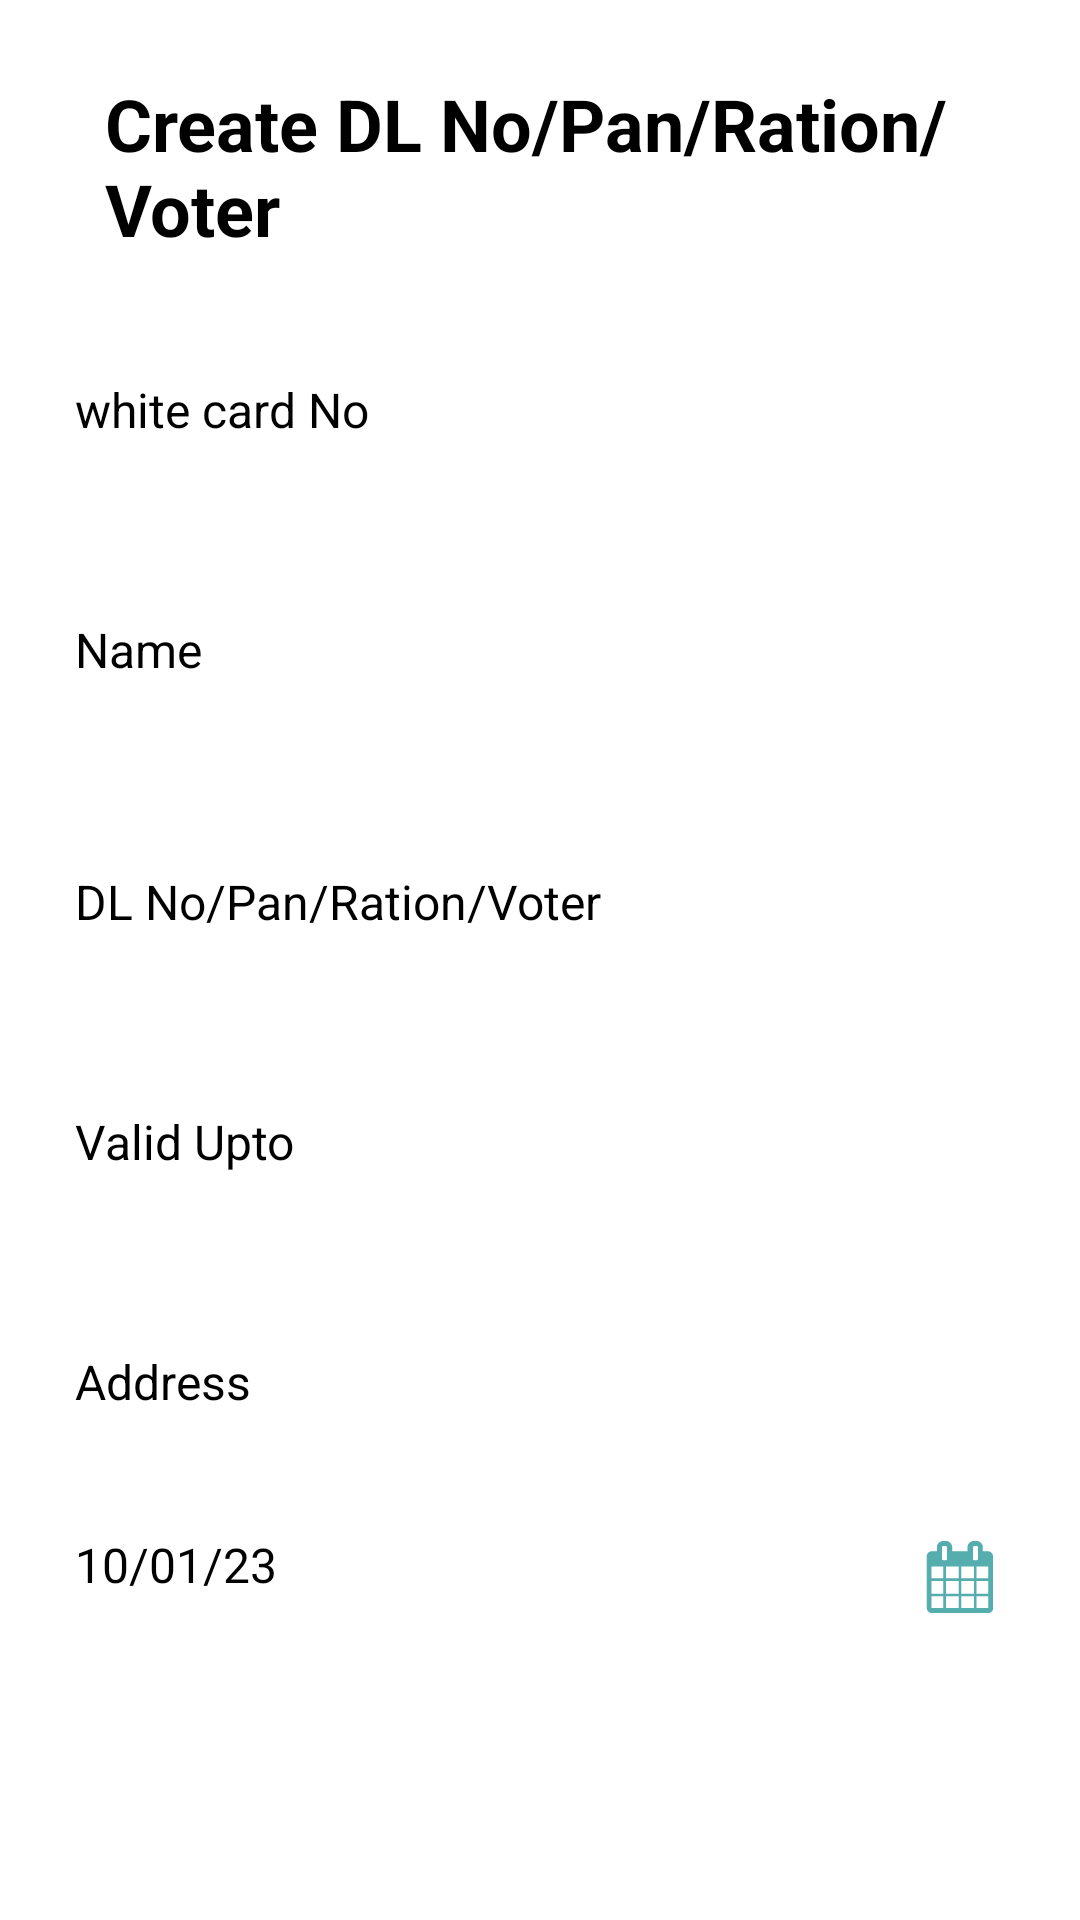

Point at icon controls on the screen. Image size 1080×1920, points as (x,y).
calender: (960,1577)
